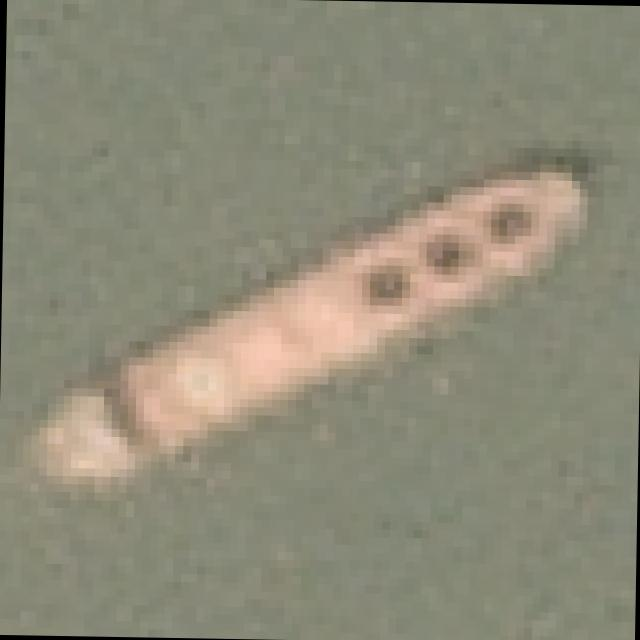ship: (9, 103, 618, 556)
